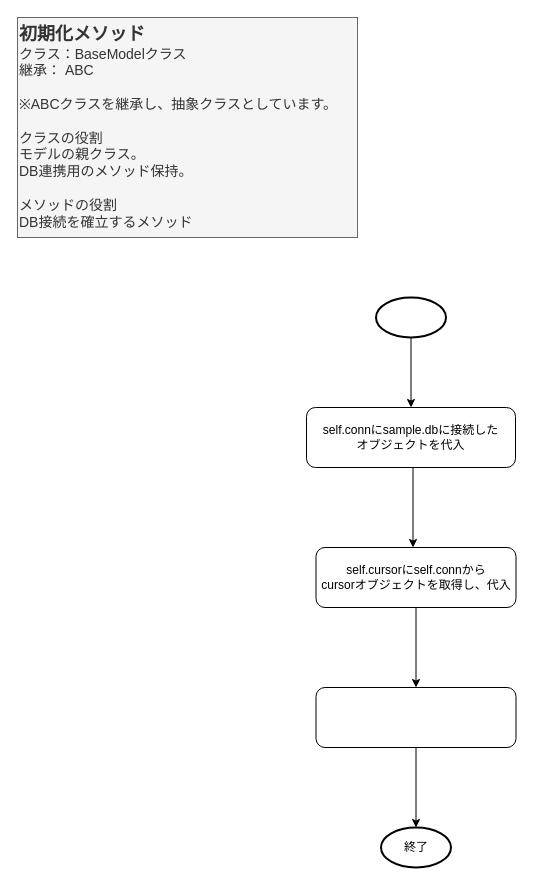
Some shapes in this 534 by 886 pixel diagram are drawn without their labels. The shapes that lost their labels are listed below. From the top down, each one's box as (x1, y1, x2, y2) in pixels, then its label:
(374, 296, 446, 338): 開始
(315, 686, 516, 748): DBから受け取ったデータを 辞書型で取得できるように設定
